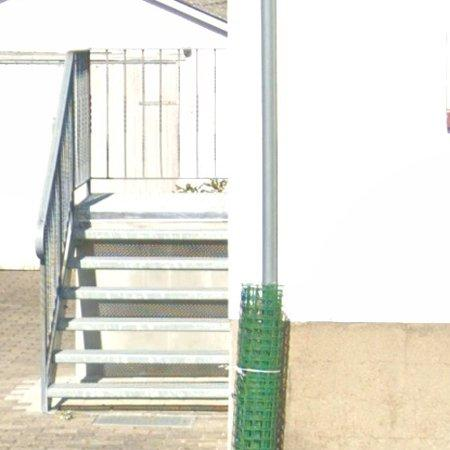stairs: (39, 50, 231, 410)
